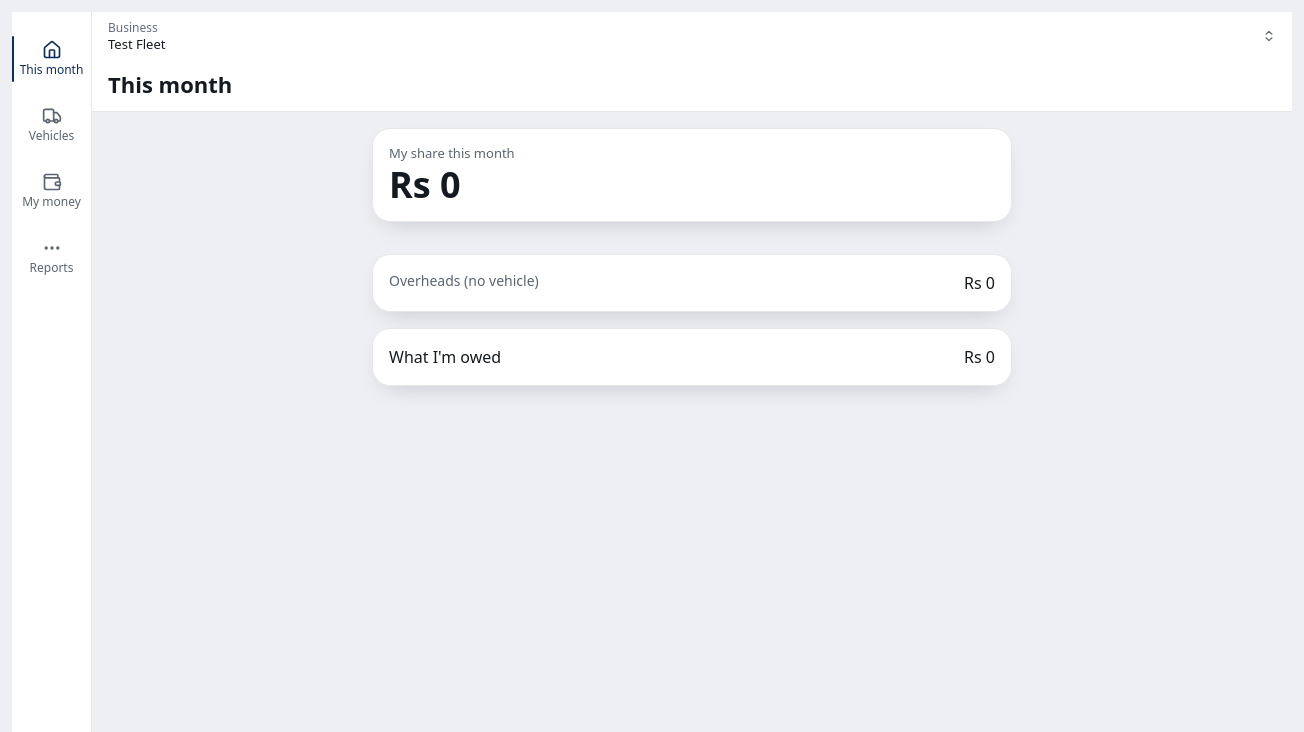
it: Review's tabs navigate between its own routes, and owner_manager never reaches them (M-3)
expect the heading "This month" is shown: met, box [108, 70, 232, 98]
Click the button "Reports" at (52, 257), box [12, 226, 91, 288]
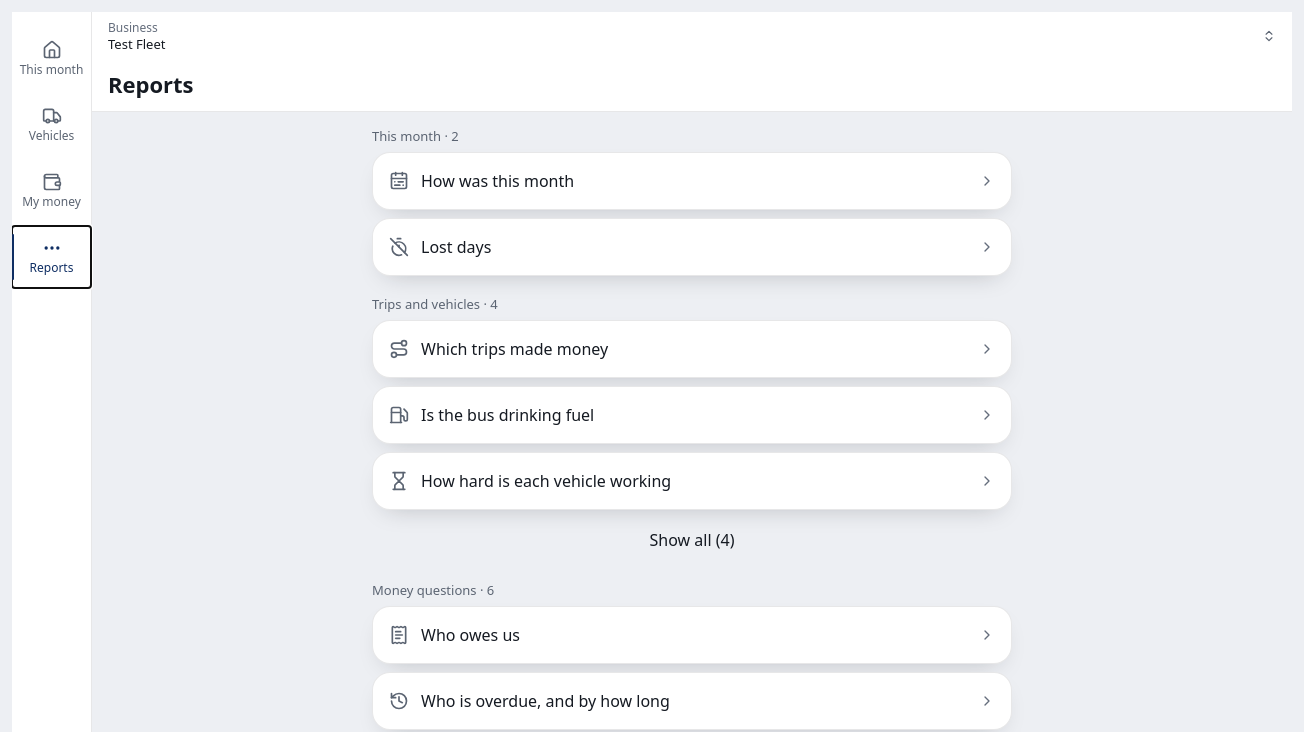
expect the heading "Reports" is shown: met, box [108, 70, 194, 98]
